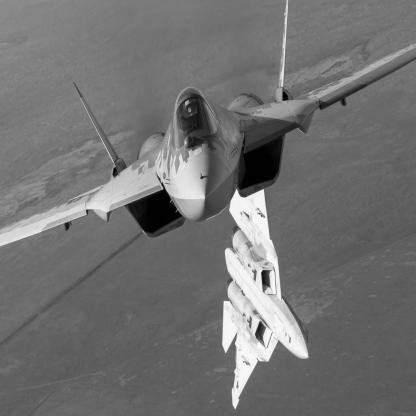Su57: (1, 2, 416, 248), (223, 189, 310, 410)
